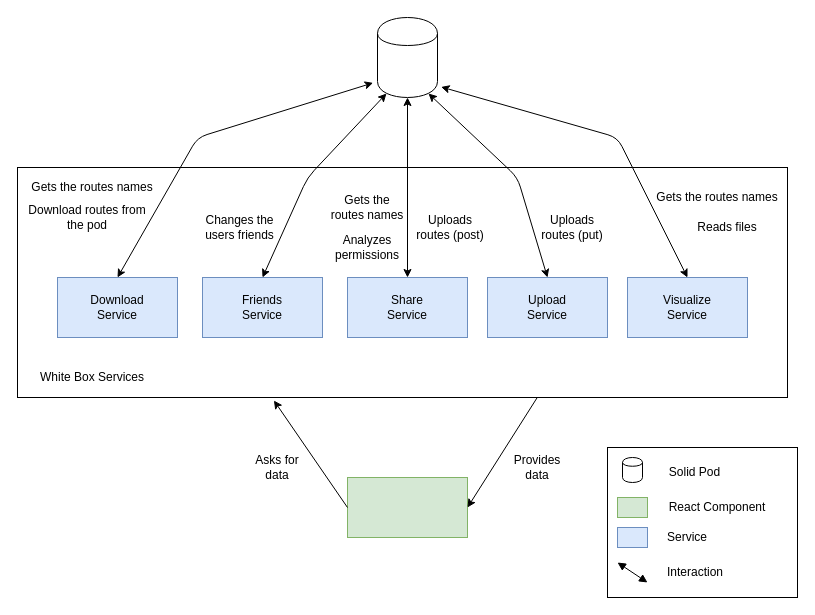
The diagram is 815 pixels wide and 615 high, and some of its shapes have lost their labels. The shapes that lost their labels are listed below. From the top down, each one's centre as x and y in pixels, then its label:
At point (407, 57): "Pod of user X".
At point (407, 507): "Interface".
